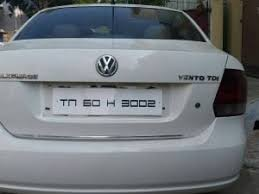T: (58, 97, 68, 108)
